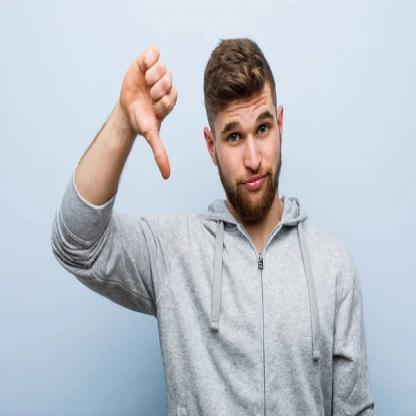thumb_down: (117, 41, 183, 185)
